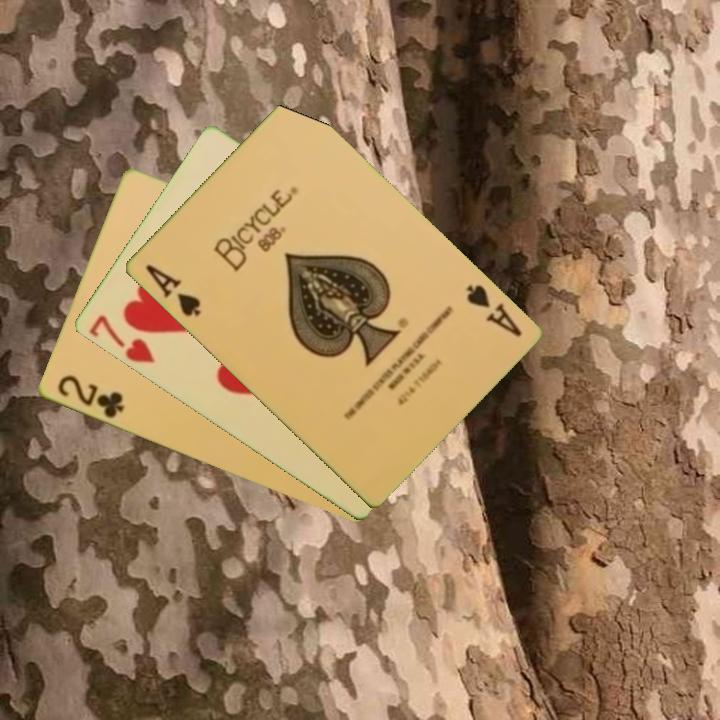2c: (53, 371, 127, 422)
7h: (84, 311, 158, 367)
As: (461, 280, 525, 340), (141, 260, 204, 320)
